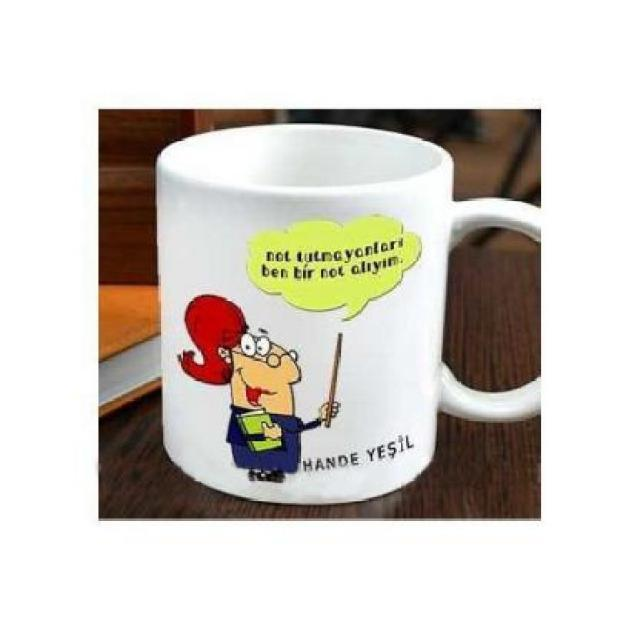taza: (154, 124, 542, 504)
